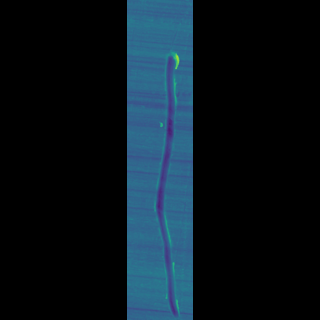Loch: (158, 49, 164, 319)
